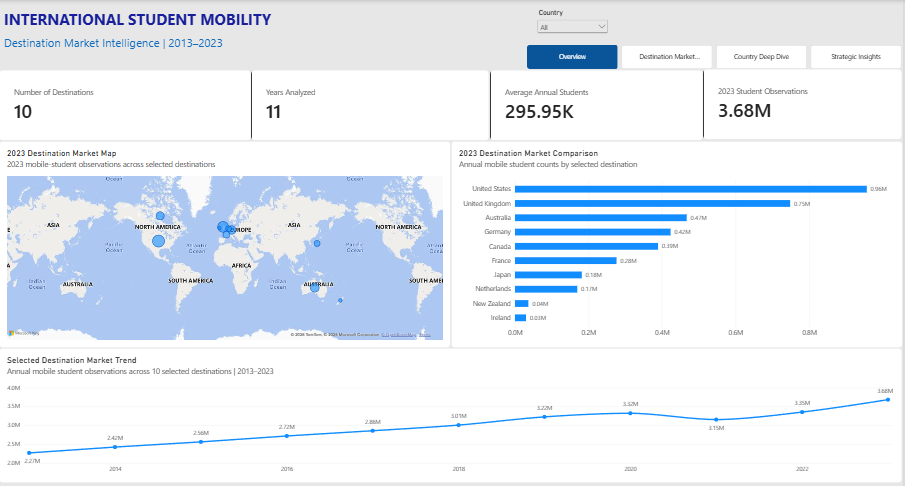

The page's visual inventory and layout, read from the dashboard file:
{"tool":"powerbi","page":{"name":"Overview","canvas":[1920,1080],"ordinal":0},"visuals":[{"type":"textbox","box":[10,20,992.5,42.5],"z":0},{"type":"textbox","box":[10,75,732.5,37.5],"z":1000},{"type":"cardVisual","fields":{"Data":["Student_Mobility.Number of Destinations"]},"box":[0,148.3,536.7,150],"z":2000},{"type":"cardVisual","fields":{"Data":["Student_Mobility.Years Analyzed"]},"box":[536.7,148.3,506.7,150],"z":3000},{"type":"cardVisual","fields":{"Data":["Student_Mobility.Average Mobile Students"]},"box":[1043.3,148.3,453.3,150],"z":4000},{"type":"cardVisual","fields":{"Data":["Student_Mobility.Students in 2023"]},"box":[1497.1,147.1,423.3,150],"z":5000},{"type":"map","title":"2023 Destination Market Map","fields":{"Category":["Destination_Market_Analysis.Country"],"Size":["Sum(Destination_Market_Analysis.Students_2023)"]},"box":[0,300,960,440],"z":6000},{"type":"clusteredBarChart","title":"2023 Destination Market Comparison","fields":{"Category":["Destination_Market_Analysis.Country"],"Y":["Sum(Destination_Market_Analysis.Students_2023)"]},"box":[960,300,960,440],"z":7000},{"type":"lineChart","title":"Selected Destination Market Trend","fields":{"Category":["Student_Mobility.Year"],"Y":["Sum(Student_Mobility.Mobile_Students)"]},"box":[0,740,1920,286.7],"z":8000},{"type":"slicer","fields":{"Values":["Student_Mobility.Country"]},"box":[1140,20,160,58.3],"z":9000},{"type":"textbox","box":[10,1030,892.5,50],"z":11000},{"type":"pageNavigator","box":[1122.5,95.7,797.2,51],"z":12000}]}

Visuals, with their boxes on the page's 1920x1080 design canvas (x1, y1, x2, y2). These are canvas units, not pixel positions in the 905x486 screenshot, which may show the page scaled, cropped or inside an application window:
textbox: (left=10, top=20, right=1002, bottom=62)
textbox: (left=10, top=75, right=742, bottom=112)
cardVisual - Student_Mobility.Number of Destinations: (left=0, top=148, right=537, bottom=298)
cardVisual - Student_Mobility.Years Analyzed: (left=537, top=148, right=1043, bottom=298)
cardVisual - Student_Mobility.Average Mobile Students: (left=1043, top=148, right=1497, bottom=298)
cardVisual - Student_Mobility.Students in 2023: (left=1497, top=147, right=1920, bottom=297)
"2023 Destination Market Map" map: (left=0, top=300, right=960, bottom=740)
"2023 Destination Market Comparison" clusteredBarChart: (left=960, top=300, right=1920, bottom=740)
"Selected Destination Market Trend" lineChart: (left=0, top=740, right=1920, bottom=1027)
slicer - Student_Mobility.Country: (left=1140, top=20, right=1300, bottom=78)
textbox: (left=10, top=1030, right=902, bottom=1080)
pageNavigator: (left=1122, top=96, right=1920, bottom=147)
